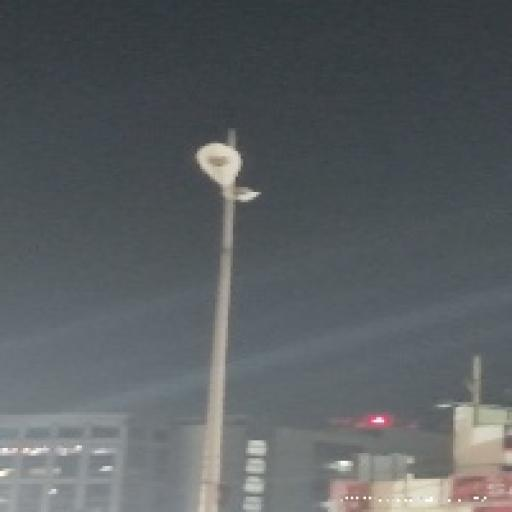Not Working: (192, 135, 248, 198), (228, 184, 264, 213)
